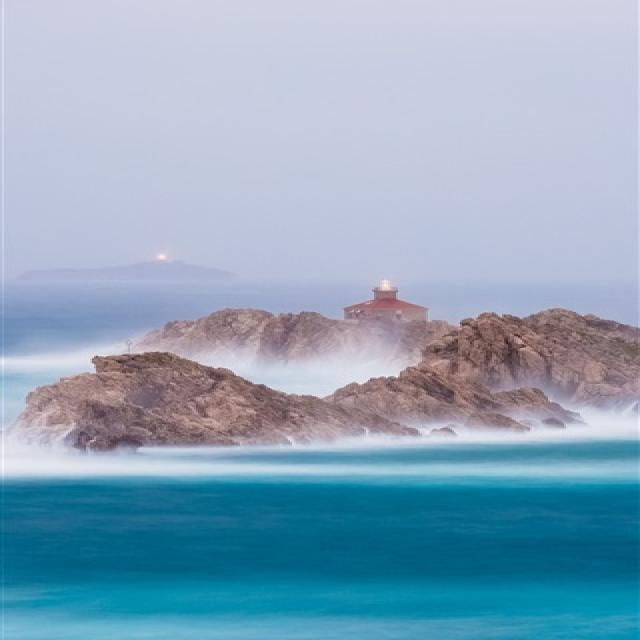island: (22, 276, 640, 457)
